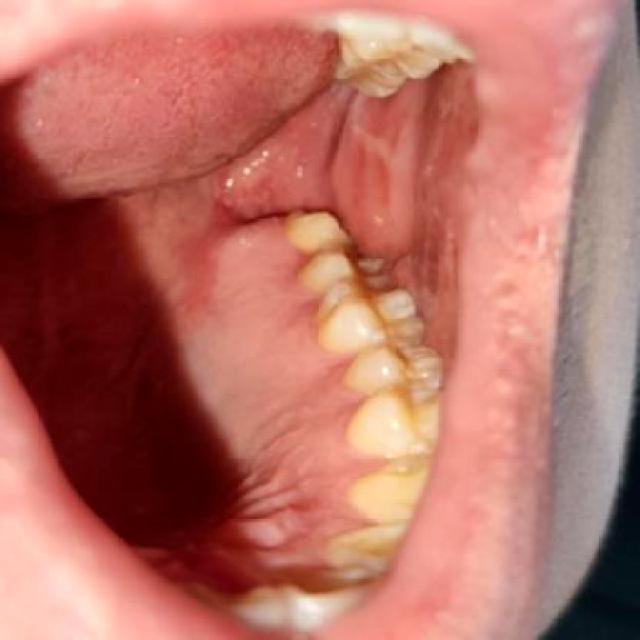Plaque: (286, 287, 320, 333), (322, 296, 355, 318)
